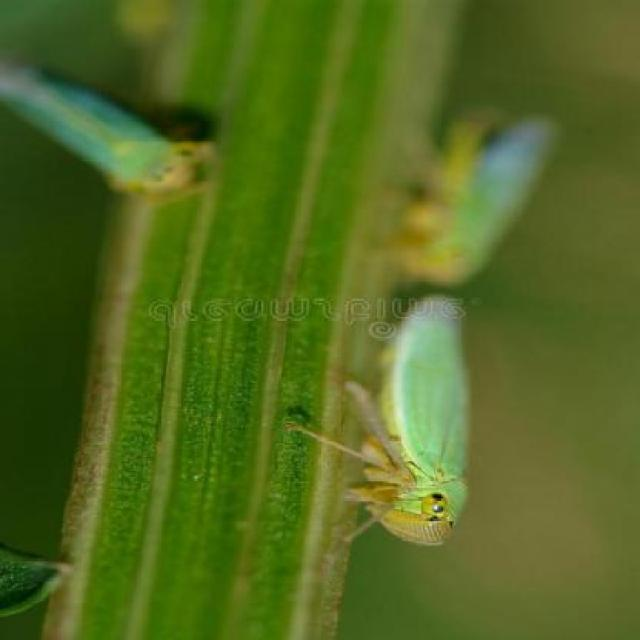green-leafhopper: (307, 291, 475, 549), (4, 68, 205, 200), (412, 114, 556, 281)
